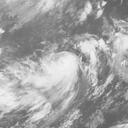cyclone: (27, 51, 80, 99)
